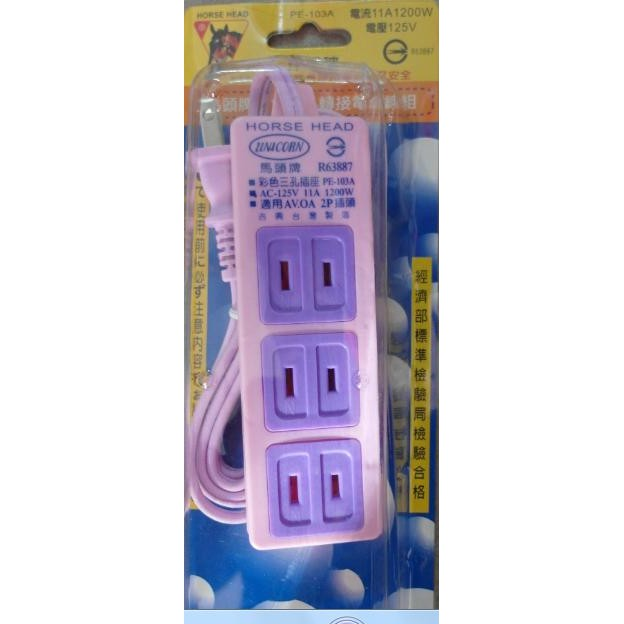socket: (192, 71, 385, 551)
